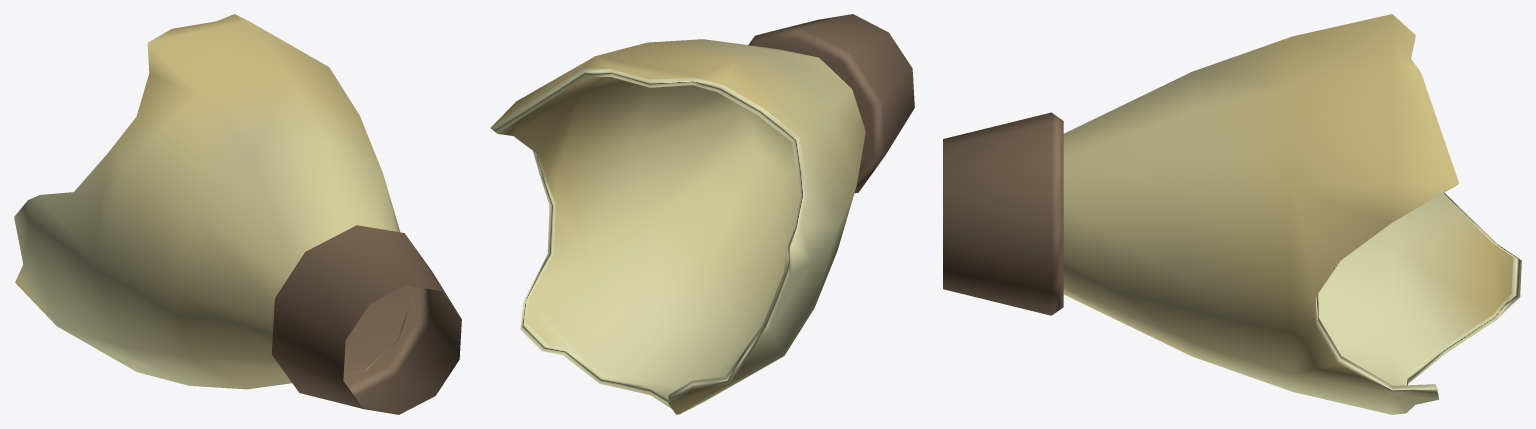
The model's file is LighthouseBrokenLightbulb.fbx.
3 renders of one model, left to right at view 1: azimuth 30°, elevation 25°; view 2: azimuth 150°, elevation 25°; view 3: azimuth 270°, elevation 25°, orthographic. The views are drawn at different scales.
Parts seen in each view (by area): view 1: LighthouseBrokenLightbulb; view 2: LighthouseBrokenLightbulb; view 3: LighthouseBrokenLightbulb.
Boxes of the visible parts, bbox=[...] form: LighthouseBrokenLightbulb: bbox=[14, 14, 461, 414]; LighthouseBrokenLightbulb: bbox=[490, 14, 914, 414]; LighthouseBrokenLightbulb: bbox=[943, 14, 1521, 414].
Size of the model in its own units: 48.52 by 48.8 by 72.4.
